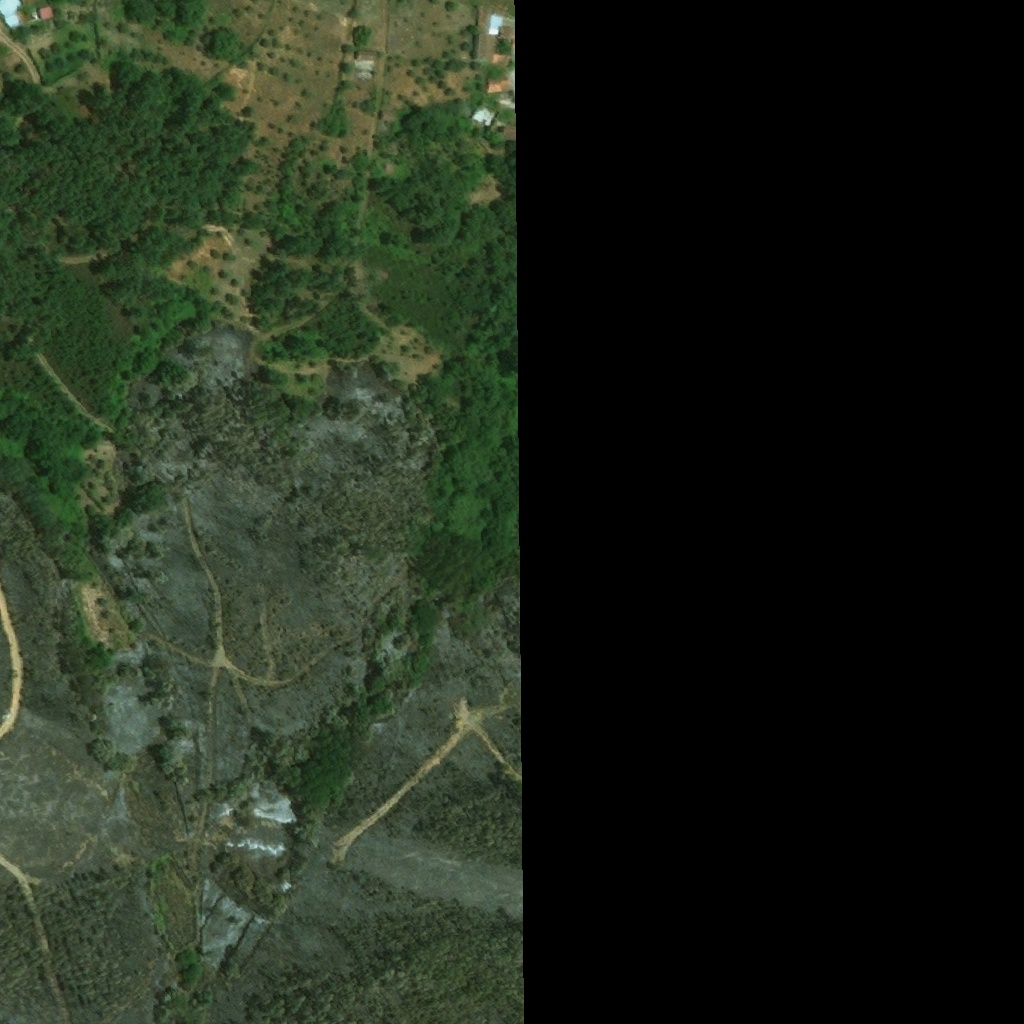0 no-damage: (470, 35, 514, 67), (0, 0, 24, 34), (469, 102, 498, 129), (486, 76, 509, 95), (485, 15, 504, 36), (36, 4, 57, 22), (354, 51, 380, 62), (505, 126, 521, 141), (386, 165, 400, 180), (380, 111, 397, 122), (498, 27, 511, 40)
4 un-classified: (22, 0, 50, 12), (511, 39, 521, 50)
